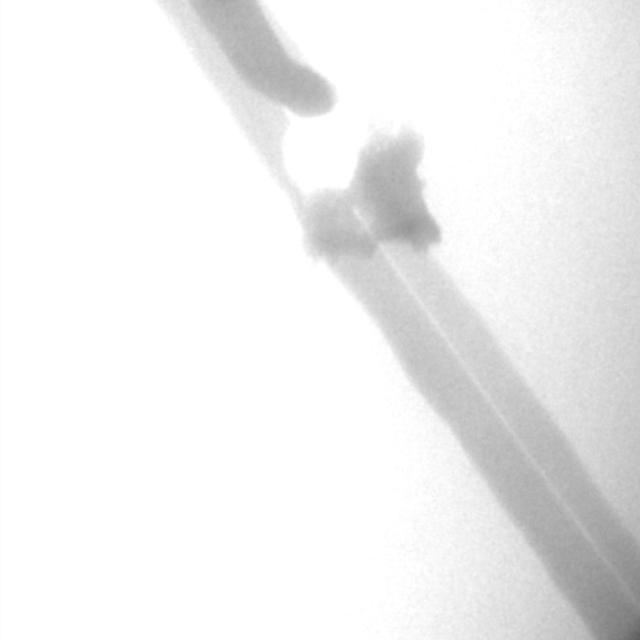broken arc: (190, 5, 635, 597)
